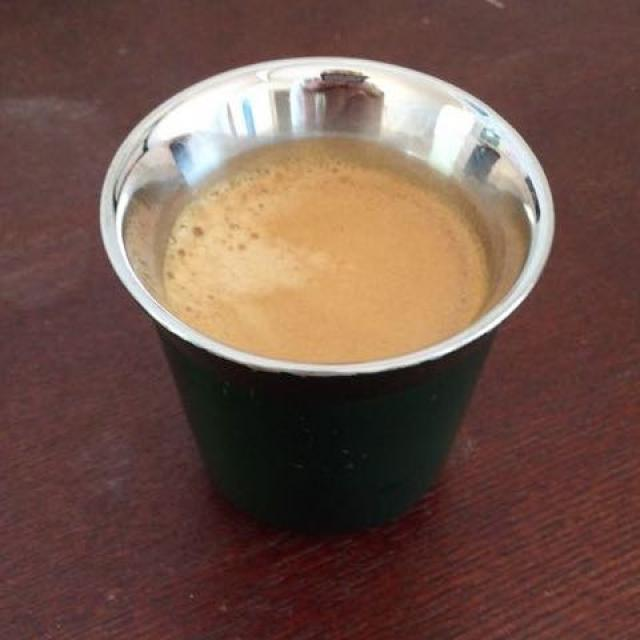espresso: (163, 150, 503, 357)
